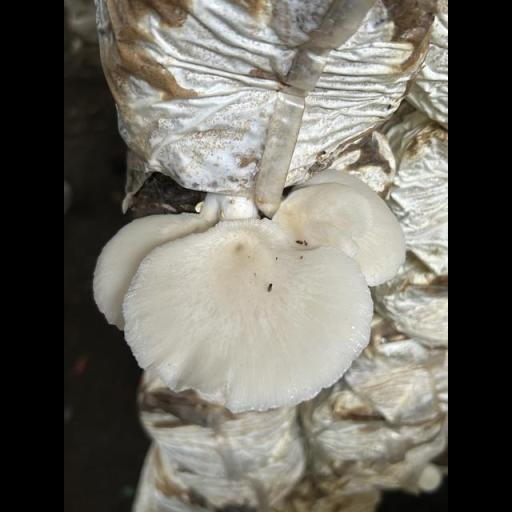White Oyster Mushroom: (91, 157, 424, 419)
